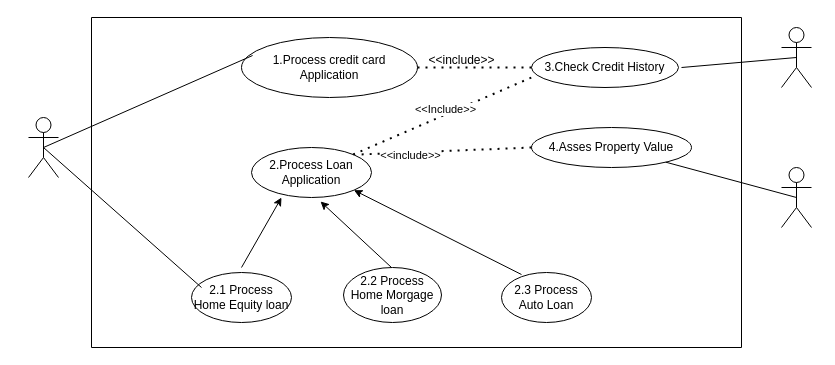
This 835x365 diagram has some shape labels left out. The centre of each missing label's shape, as x and y in pixels:
Assesor: point 796,197
Credit/ Bureau: point 796,57
Customer /Applicant: point 43,147
